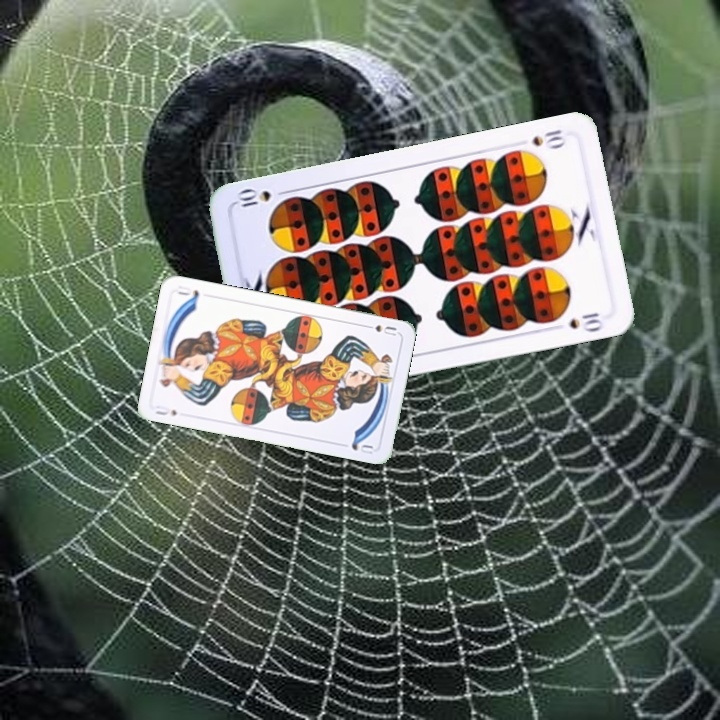S10: (528, 125, 568, 152)
SU: (360, 320, 399, 338), (151, 401, 179, 418)
